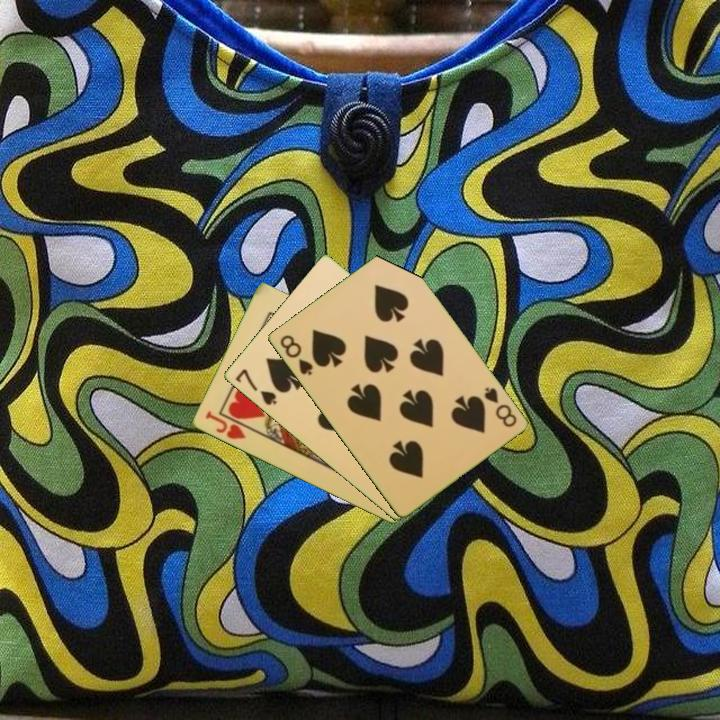7s: (231, 365, 279, 408)
8s: (276, 331, 315, 378), (480, 383, 519, 430)
Jh: (201, 407, 255, 442)
